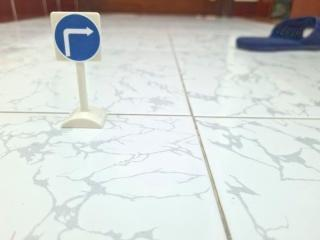right: (46, 2, 113, 68)
